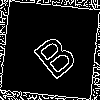B: (25, 25, 80, 82)
